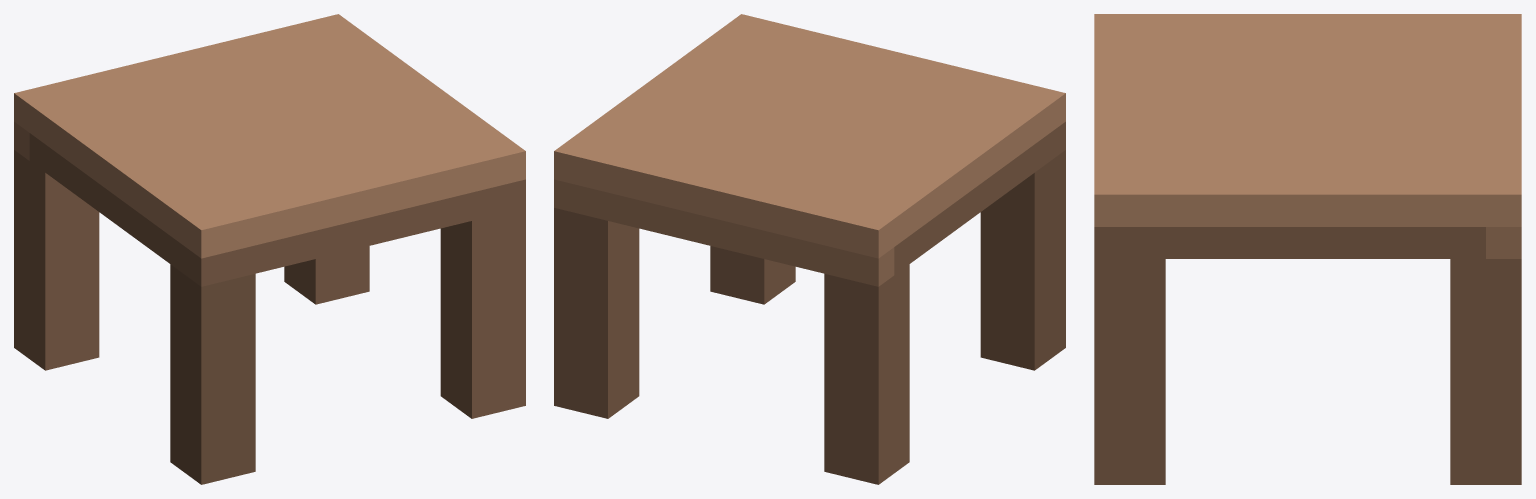
File: brujula_mesa_oxidado_01.glb
3 views of the same model, side by side, from view 1: azimuth 30°, elevation 25°; view 2: azimuth 150°, elevation 25°; view 3: azimuth 270°, elevation 25° (orthographic). The views are drawn at different scales.
Visible parts, largest first — view 1: brujula_mesa_oxidado; view 2: brujula_mesa_oxidado; view 3: brujula_mesa_oxidado.
Part boxes in pixels (<box>): brujula_mesa_oxidado: <box>14,14,525,484</box>; brujula_mesa_oxidado: <box>554,14,1065,484</box>; brujula_mesa_oxidado: <box>1094,14,1521,484</box>.
Size of the model in its own units: 1 by 0.75 by 1.
